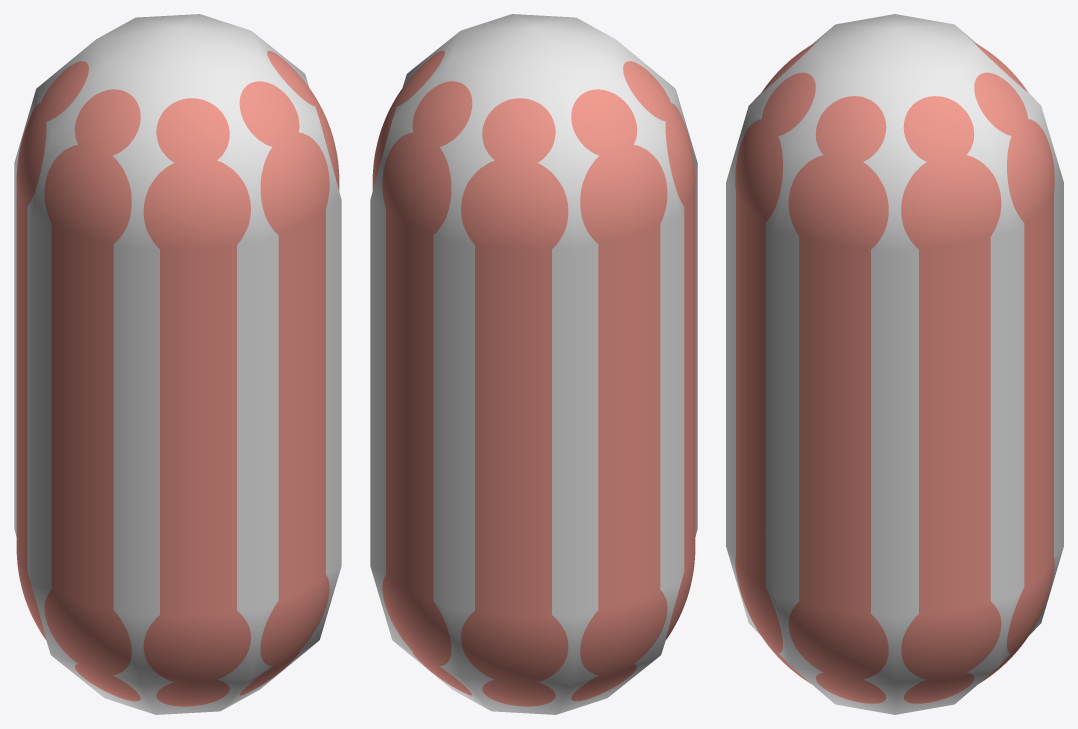
File: hero-placeholder.glb
3 renders of one model, left to right at view 1: azimuth 30°, elevation 25°; view 2: azimuth 150°, elevation 25°; view 3: azimuth 270°, elevation 25°, orthographic.
Visible parts, largest first — view 1: hero_body, COL_hero_capsule; view 2: hero_body, COL_hero_capsule; view 3: hero_body, COL_hero_capsule.
Boxes of the visible parts, bbox=[...] form: hero_body: bbox=[16, 50, 339, 706]; COL_hero_capsule: bbox=[14, 14, 341, 714]; hero_body: bbox=[372, 50, 695, 706]; COL_hero_capsule: bbox=[370, 14, 697, 714]; hero_body: bbox=[735, 42, 1054, 703]; COL_hero_capsule: bbox=[726, 14, 1063, 714].
Bounding box in the file's own units: 0.84 × 1.84 × 0.84.
